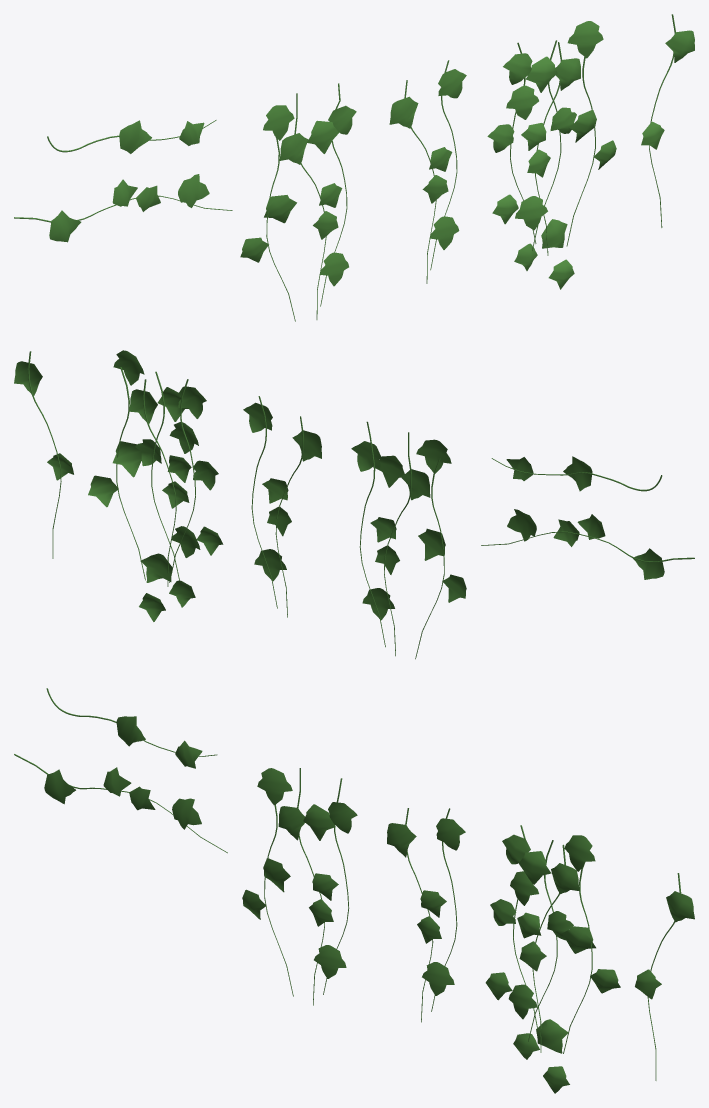
The model's file is Modular Foliage Set.fbx.
3 views of the same model, one above another, from view 1: azimuth 30°, elevation 25°; view 2: azimuth 150°, elevation 25°; view 3: azimuth 330°, elevation 25° (orthographic).
Visible parts, largest first — view 1: Vine_Bunch_Flat_Large2.143, Vine_Bunch_Flat_Large2.140, Vine_Bunch_Flat_Large2.004, Vine_Bunch_Flat_Large2.144, Vine_Bunch_Flat_Large2.141, Vine_Bunch_Flat_Large2.145; view 2: Vine_Bunch_Flat_Large2.143, Vine_Bunch_Flat_Large2.140, Vine_Bunch_Flat_Large2.004, Vine_Bunch_Flat_Large2.144, Vine_Bunch_Flat_Large2.145, Vine_Bunch_Flat_Large2.141; view 3: Vine_Bunch_Flat_Large2.143, Vine_Bunch_Flat_Large2.140, Vine_Bunch_Flat_Large2.004, Vine_Bunch_Flat_Large2.144, Vine_Bunch_Flat_Large2.145, Vine_Bunch_Flat_Large2.141.
Boxes of the visible parts, x1=… form: Vine_Bunch_Flat_Large2.143: x1=487, y1=21, x2=616, y2=289; Vine_Bunch_Flat_Large2.140: x1=240, y1=83, x2=356, y2=321; Vine_Bunch_Flat_Large2.004: x1=389, y1=60, x2=466, y2=283; Vine_Bunch_Flat_Large2.144: x1=14, y1=174, x2=232, y2=242; Vine_Bunch_Flat_Large2.141: x1=47, y1=120, x2=216, y2=153; Vine_Bunch_Flat_Large2.145: x1=641, y1=14, x2=694, y2=227; Vine_Bunch_Flat_Large2.143: x1=88, y1=350, x2=223, y2=621; Vine_Bunch_Flat_Large2.140: x1=351, y1=421, x2=466, y2=659; Vine_Bunch_Flat_Large2.004: x1=243, y1=396, x2=321, y2=617; Vine_Bunch_Flat_Large2.144: x1=481, y1=509, x2=694, y2=579; Vine_Bunch_Flat_Large2.145: x1=14, y1=351, x2=73, y2=558; Vine_Bunch_Flat_Large2.141: x1=491, y1=456, x2=662, y2=491; Vine_Bunch_Flat_Large2.143: x1=485, y1=825, x2=620, y2=1093; Vine_Bunch_Flat_Large2.140: x1=242, y1=768, x2=357, y2=1005; Vine_Bunch_Flat_Large2.004: x1=387, y1=808, x2=465, y2=1022; Vine_Bunch_Flat_Large2.144: x1=14, y1=754, x2=227, y2=853; Vine_Bunch_Flat_Large2.145: x1=635, y1=873, x2=694, y2=1080; Vine_Bunch_Flat_Large2.141: x1=46, y1=688, x2=217, y2=768.
Bounding box in the file's own units: 2894 × 1116 × 75.32.
Materials: 2 (2 with a texture image).
